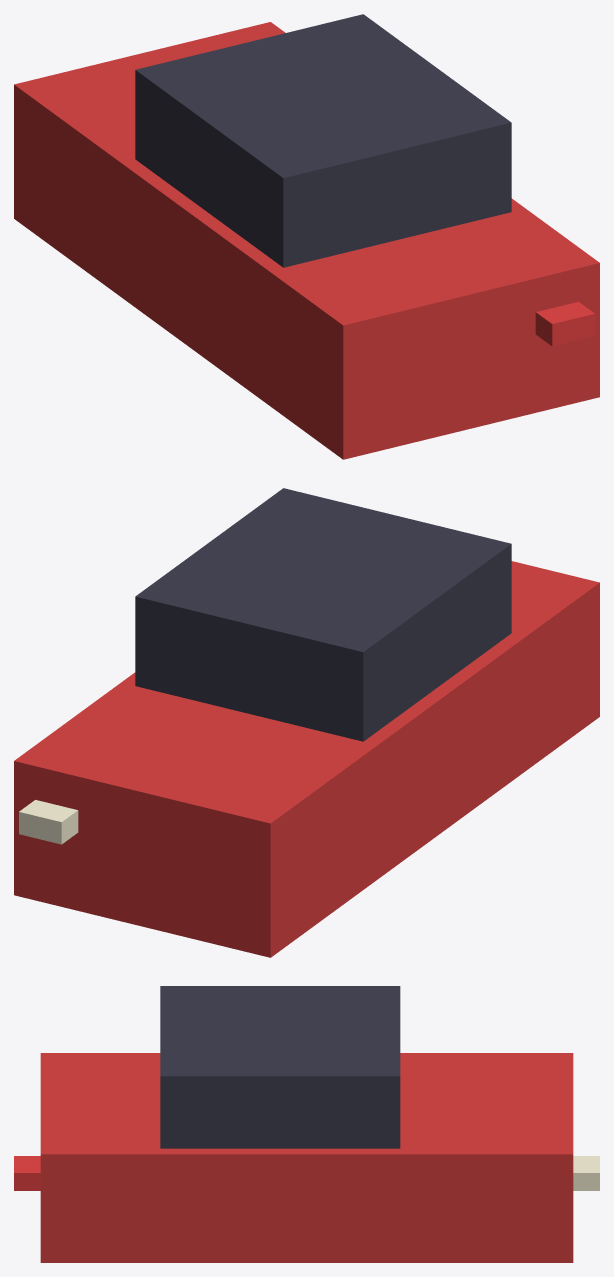
The model's file is dcc_vehicle.glb.
3 views of the same model, one above another, from view 1: azimuth 30°, elevation 25°; view 2: azimuth 150°, elevation 25°; view 3: azimuth 270°, elevation 25° (orthographic). The views are drawn at different scales.
Visible parts, largest first — view 1: FixtureCar; view 2: FixtureCar; view 3: FixtureCar.
Part boxes in pixels (x1=…): FixtureCar: x1=14, y1=14, x2=599, y2=459; FixtureCar: x1=14, y1=488, x2=599, y2=957; FixtureCar: x1=14, y1=986, x2=599, y2=1262.
Size of the model in its own units: 1.8 by 1.5 by 4.4.
